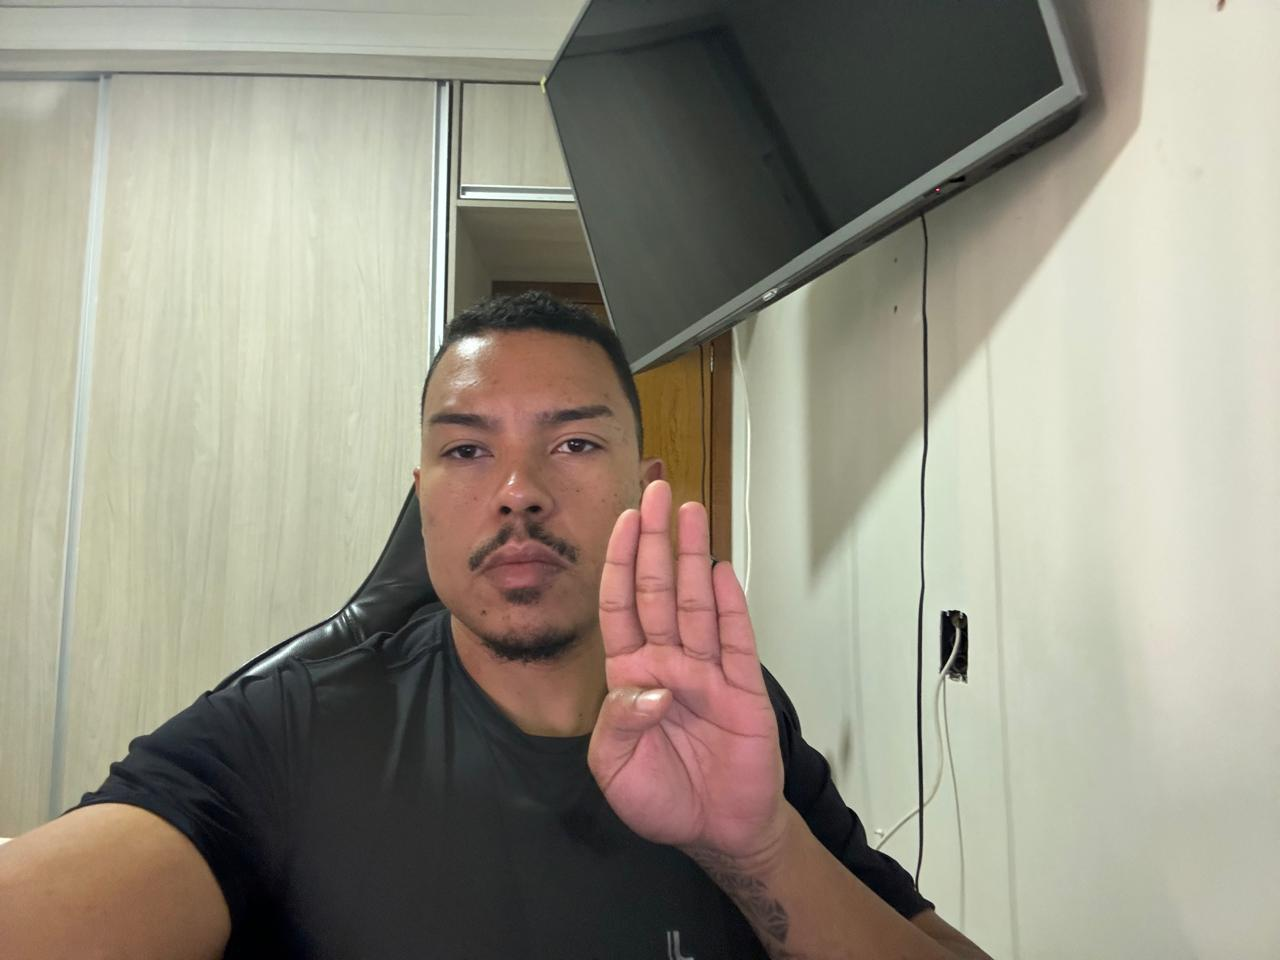b: (579, 472, 804, 869)
